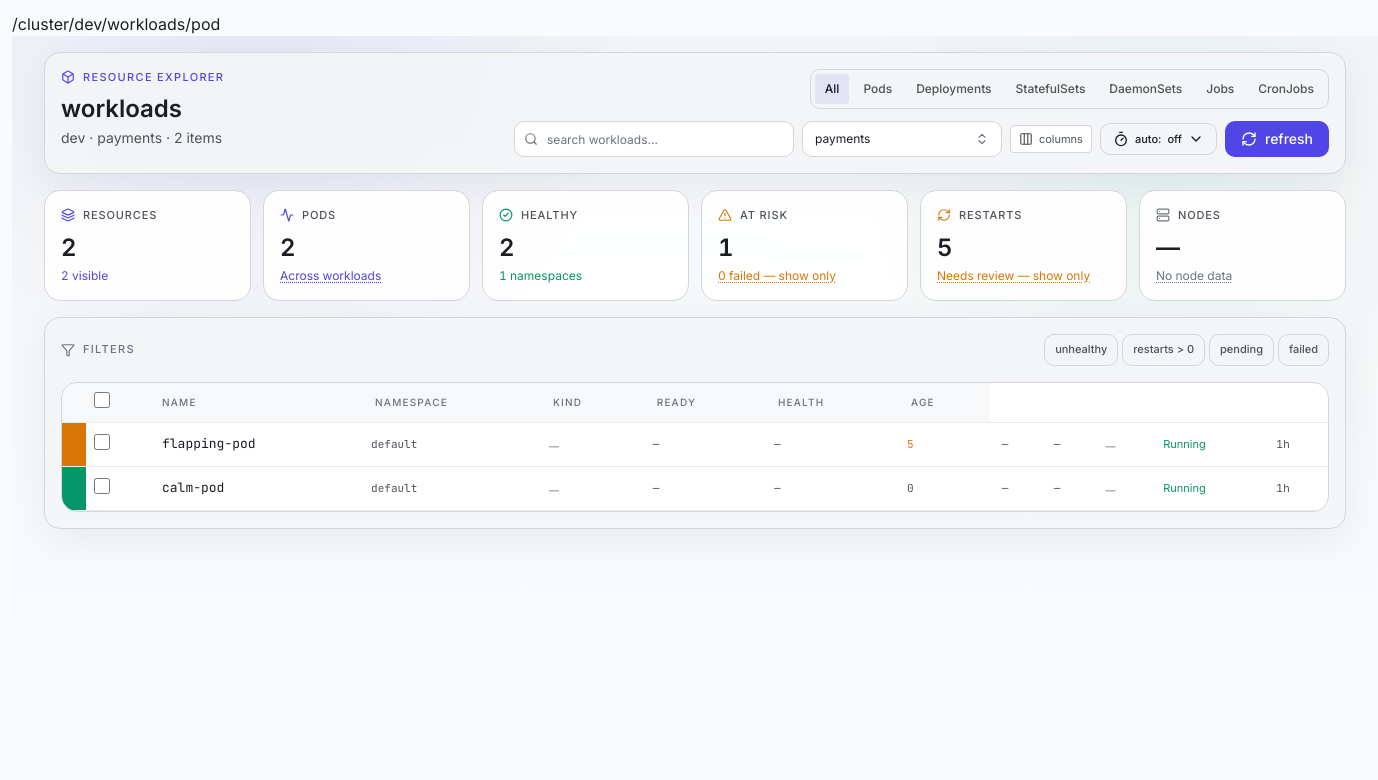
Test case: WorkloadsView actionable stat cards › filters to restarting pods when the Restarts card is clicked and exposes the toggle via aria-pressed
Expected: the text "calm-pod" is shown, [162, 479, 224, 496]
Expected: the text "flapping-pod" is shown, [162, 435, 256, 452]
Click the button "Restarts 5 Needs review — show only".
click(1024, 245)  # box [920, 190, 1127, 300]
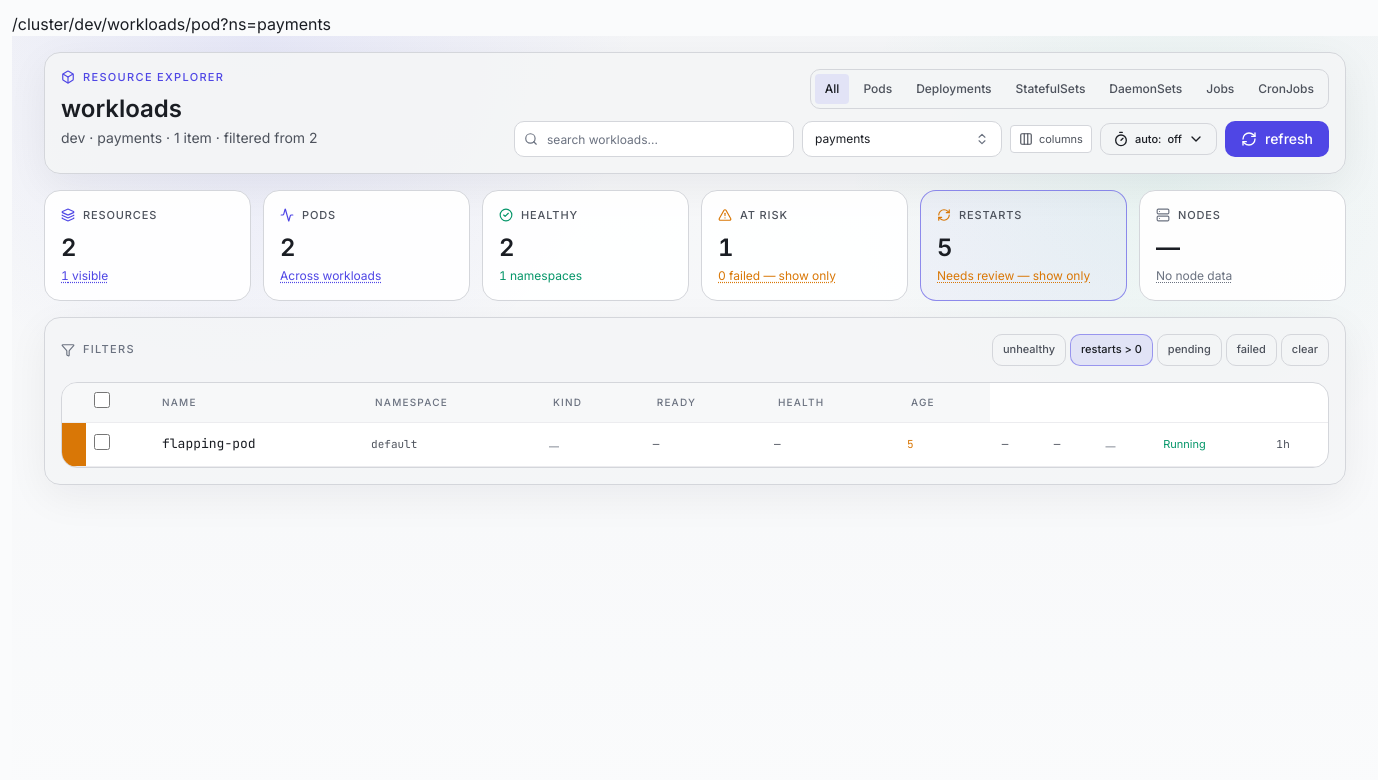
Expected: the text "flapping-pod" is shown, [162, 435, 256, 452]
Expected: the text "calm-pod" is gone
